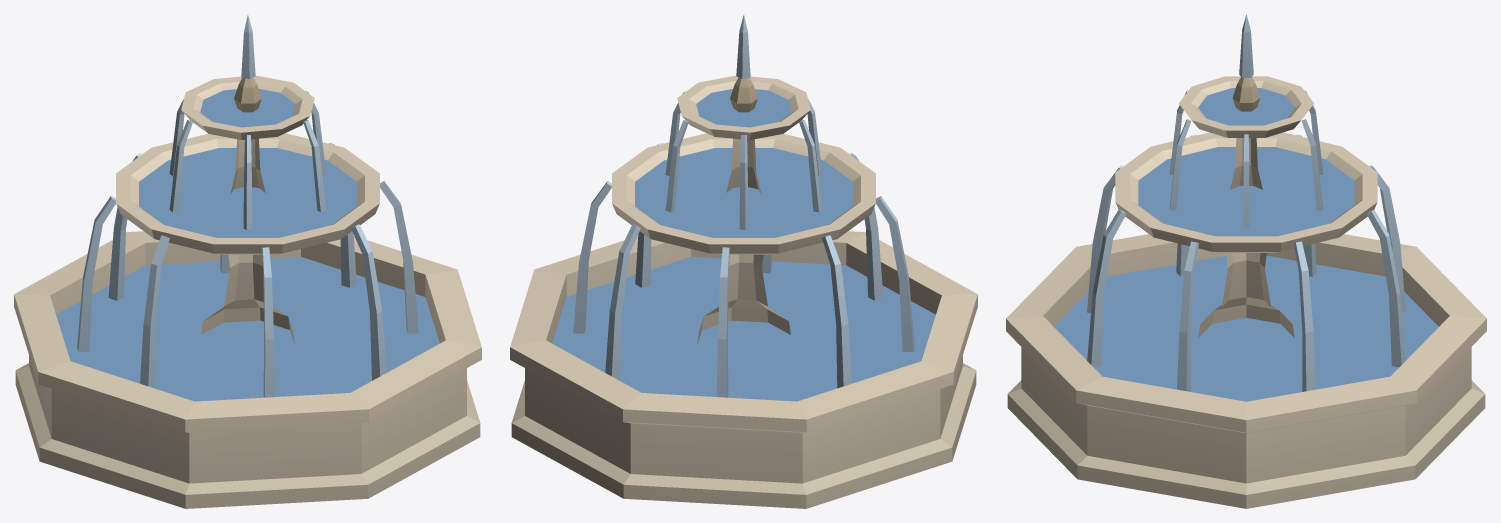
File: fountain.glb
3 renders of one model, left to right at view 1: azimuth 30°, elevation 25°; view 2: azimuth 150°, elevation 25°; view 3: azimuth 270°, elevation 25°, orthographic.
Visible parts, largest first — view 1: fountain.001, water; view 2: fountain.001, water; view 3: fountain.001, water.
Part boxes in pixels (x1=…): fountain.001: x1=14, y1=75, x2=481, y2=508; water: x1=56, y1=15, x2=439, y2=401; fountain.001: x1=510, y1=75, x2=977, y2=508; water: x1=552, y1=15, x2=935, y2=401; fountain.001: x1=1006, y1=76, x2=1486, y2=508; water: x1=1054, y1=14, x2=1438, y2=401.
Size of the model in its own units: 3.12 by 2.82 by 3.12.
1 material, 1 textured.
